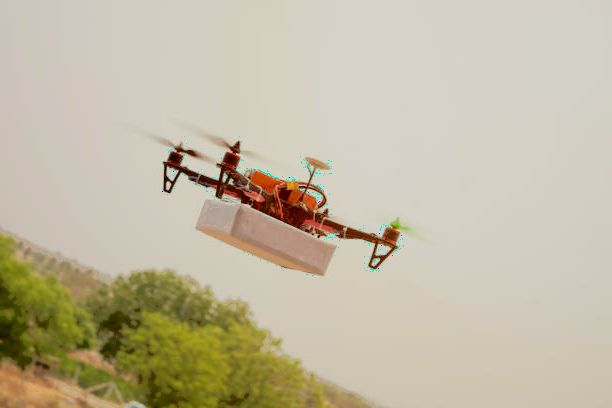Drone: (130, 105, 426, 274)
